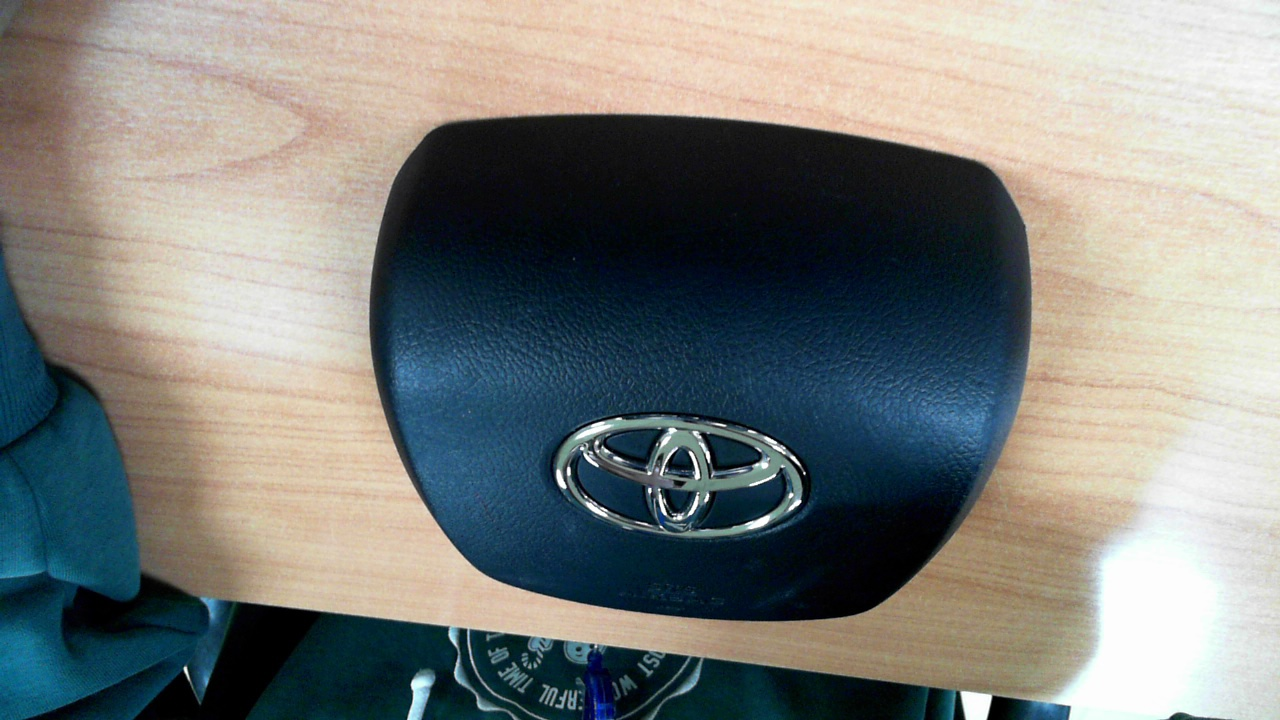Airbag: (367, 113, 1034, 622)
Toyota: (555, 413, 807, 540)
